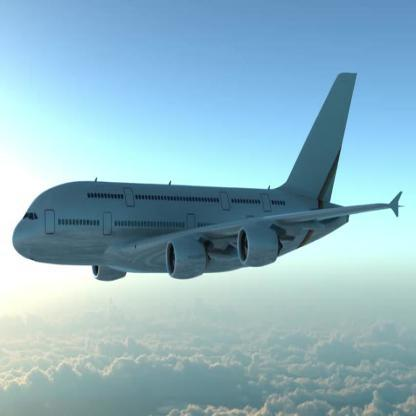CIV_Plane: (5, 66, 406, 288)
